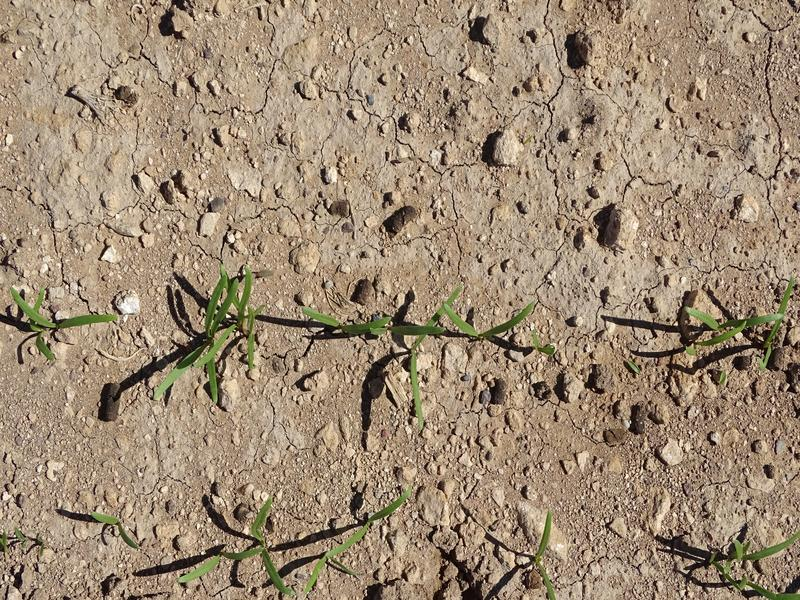Espinaca: (303, 299, 554, 354), (166, 275, 259, 396), (181, 499, 288, 589), (685, 303, 783, 367), (11, 287, 117, 346), (717, 531, 797, 597), (300, 522, 374, 590), (79, 508, 143, 547), (533, 513, 558, 596), (372, 489, 416, 527)
